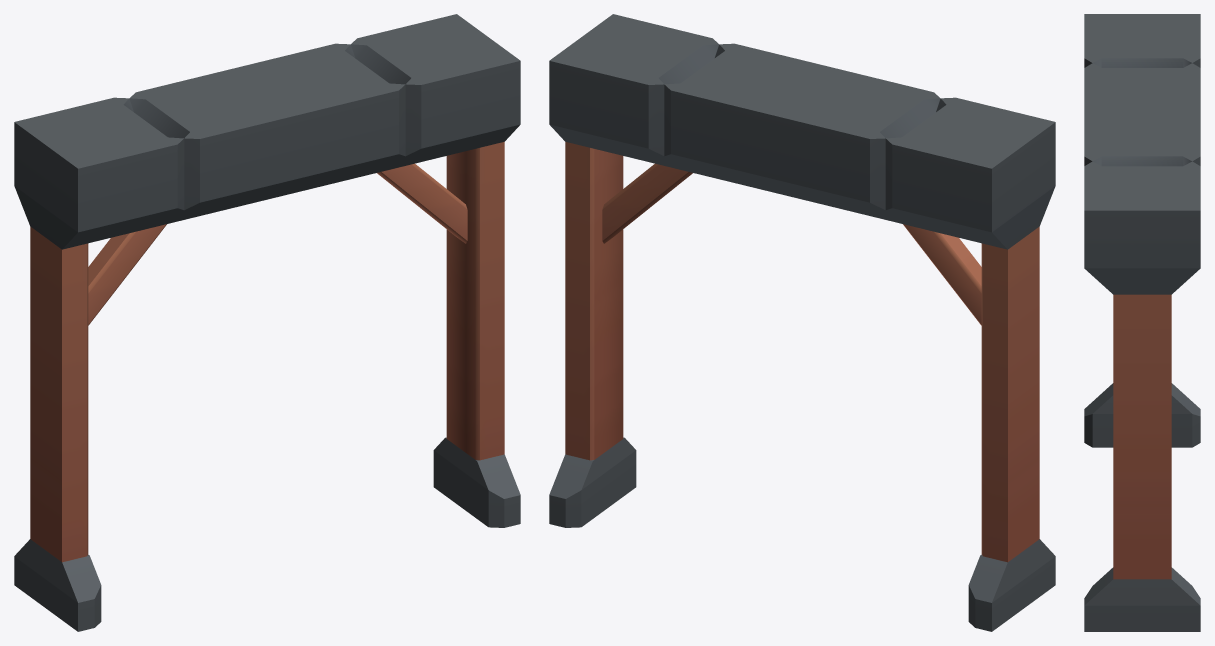
The model's file is doorway.glb.
The picture shows the model from 3 angles, left to right: view 1: azimuth 30°, elevation 25°; view 2: azimuth 150°, elevation 25°; view 3: azimuth 270°, elevation 25°; orthographic projection. The views are drawn at different scales.
Parts seen in each view (by area): view 1: wall_open_scaffold; view 2: wall_open_scaffold; view 3: wall_open_scaffold.
Boxes of the visible parts, bbox=[...] form: wall_open_scaffold: bbox=[14, 14, 520, 631]; wall_open_scaffold: bbox=[549, 14, 1055, 631]; wall_open_scaffold: bbox=[1084, 14, 1200, 631].
Size of the model in its own units: 4 by 4 by 1.
Materials: 1 (1 with a texture image).
